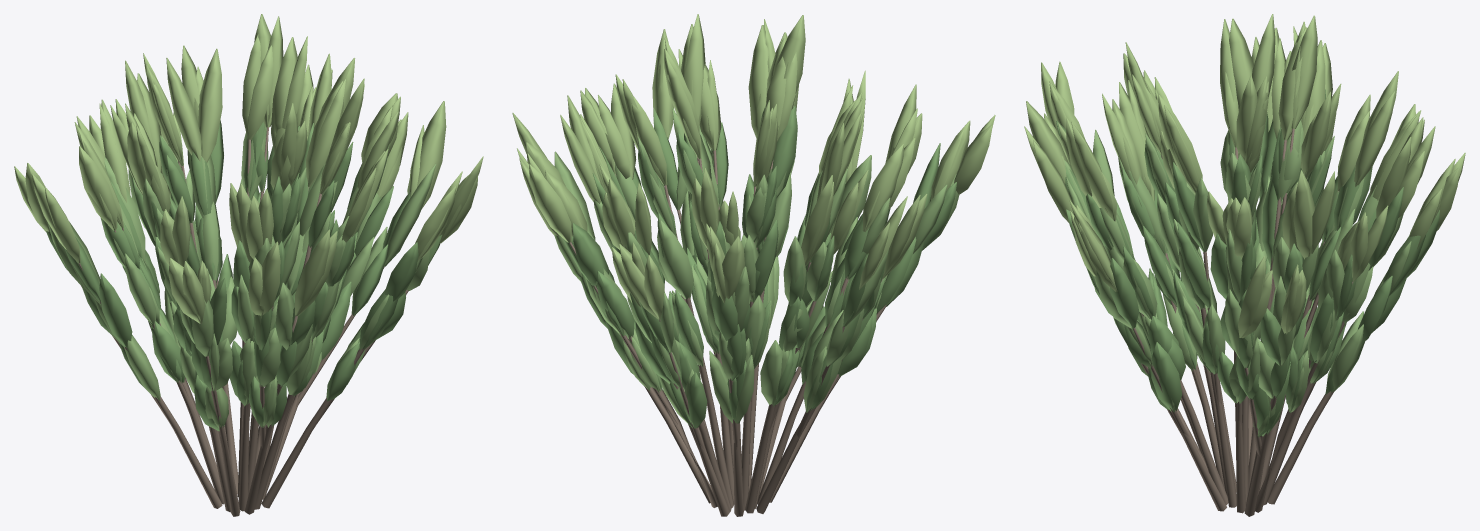
Rendered from chirca_bush_6.glb.
The picture shows the model from 3 angles, left to right: view 1: azimuth 30°, elevation 25°; view 2: azimuth 150°, elevation 25°; view 3: azimuth 270°, elevation 25°; orthographic projection. The views are drawn at different scales.
Visible parts, largest first — view 1: ChircaFoliageTip, ChircaFoliageDeep, ChircaFoliageMid, ChircaStems; view 2: ChircaFoliageTip, ChircaFoliageDeep, ChircaFoliageMid, ChircaStems; view 3: ChircaFoliageTip, ChircaFoliageDeep, ChircaFoliageMid, ChircaStems.
Part boxes in pixels (<box>): ChircaFoliageTip: <box>14,14,483,323</box>; ChircaFoliageDeep: <box>46,120,441,431</box>; ChircaFoliageMid: <box>47,126,436,428</box>; ChircaStems: <box>78,127,408,516</box>; ChircaFoliageTip: <box>512,14,995,319</box>; ChircaFoliageDeep: <box>563,106,956,428</box>; ChircaFoliageMid: <box>554,106,959,427</box>; ChircaStems: <box>569,150,886,516</box>; ChircaFoliageTip: <box>1024,14,1465,338</box>; ChircaFoliageDeep: <box>1056,89,1439,437</box>; ChircaFoliageMid: <box>1064,119,1411,435</box>; ChircaStems: <box>1133,128,1353,516</box>.
Bounding box in the file's own units: 2.07 × 2.18 × 1.88.
